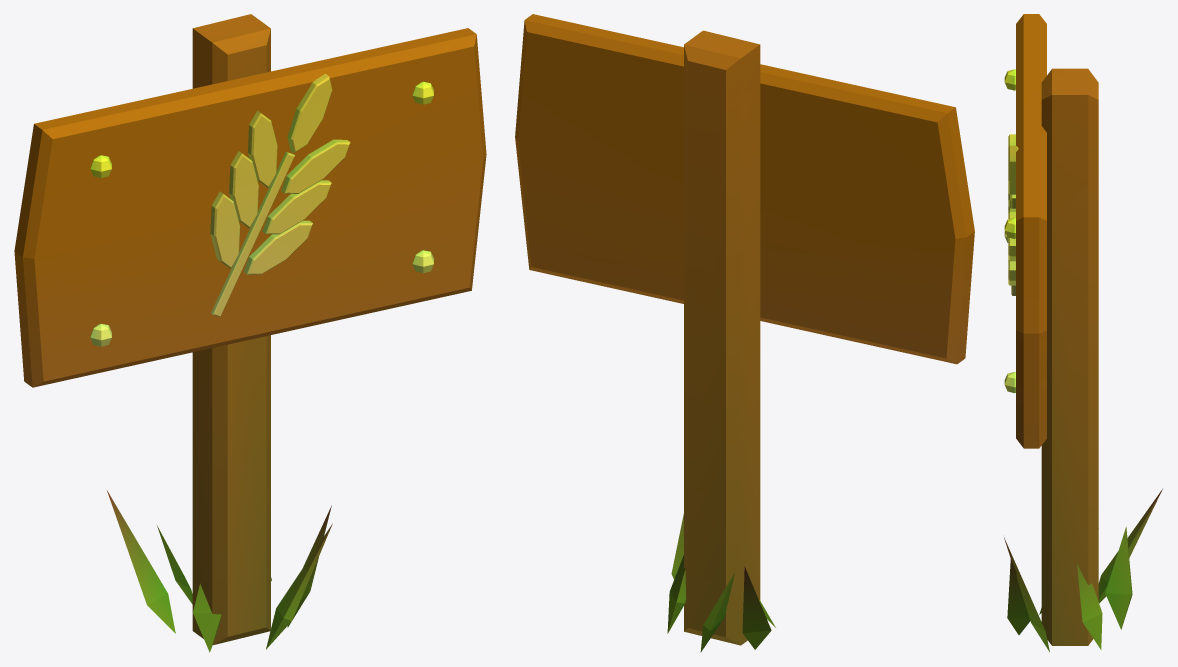
File: Farm_FieldSign.fbx
The picture shows the model from 3 angles, left to right: view 1: azimuth 30°, elevation 25°; view 2: azimuth 150°, elevation 25°; view 3: azimuth 270°, elevation 25°; orthographic projection. The views are drawn at different scales.
Visible parts, largest first — view 1: Farm_FieldSign; view 2: Farm_FieldSign; view 3: Farm_FieldSign.
Part boxes in pixels (x1,y1,x2,y2): Farm_FieldSign: (14,14,486,652); Farm_FieldSign: (515,14,974,652); Farm_FieldSign: (1004,14,1162,652).
Bounding box in the file's own units: 0.95 × 1.18 × 0.3111.
